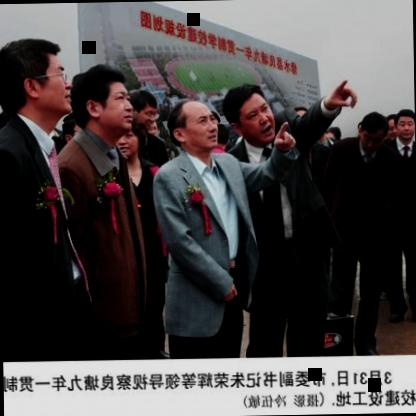head: (0, 31, 66, 124), (75, 64, 135, 143), (224, 80, 275, 145), (167, 92, 222, 152), (112, 122, 148, 160), (132, 88, 160, 131), (357, 113, 386, 153), (392, 106, 415, 142)
